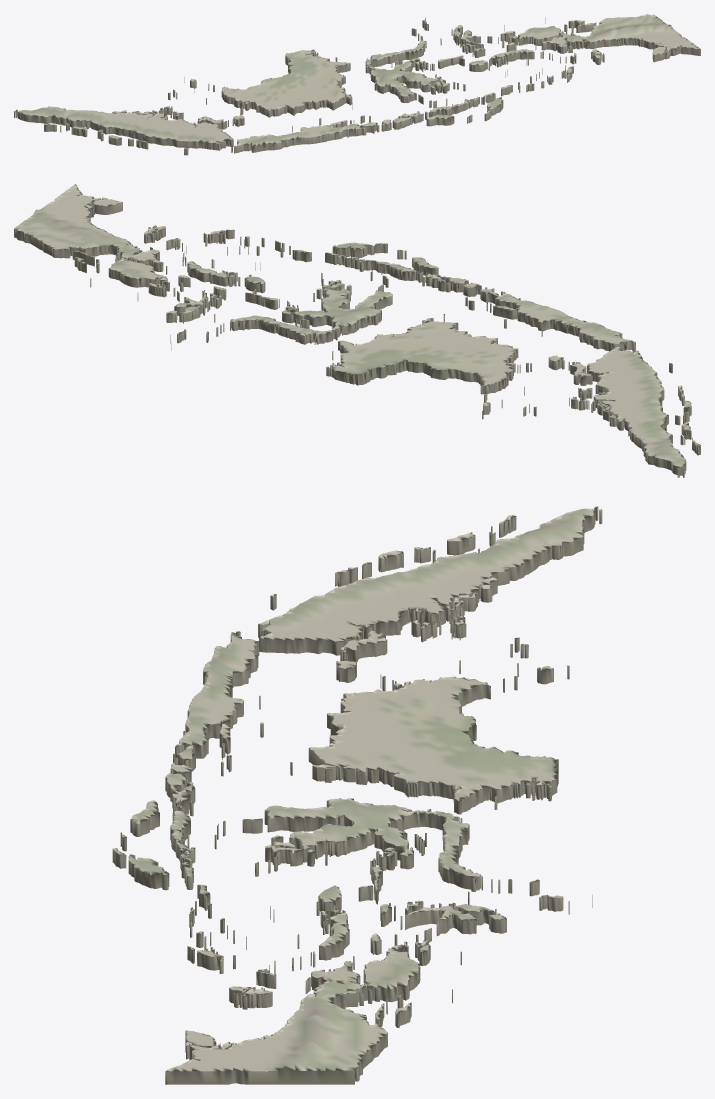
The model's file is id-desktop.glb.
The picture shows the model from 3 angles, top to bottom: view 1: azimuth 30°, elevation 25°; view 2: azimuth 150°, elevation 25°; view 3: azimuth 270°, elevation 25°; orthographic projection. The views are drawn at different scales.
Size of the model in its own units: 100 by 1.74 by 36.64.
